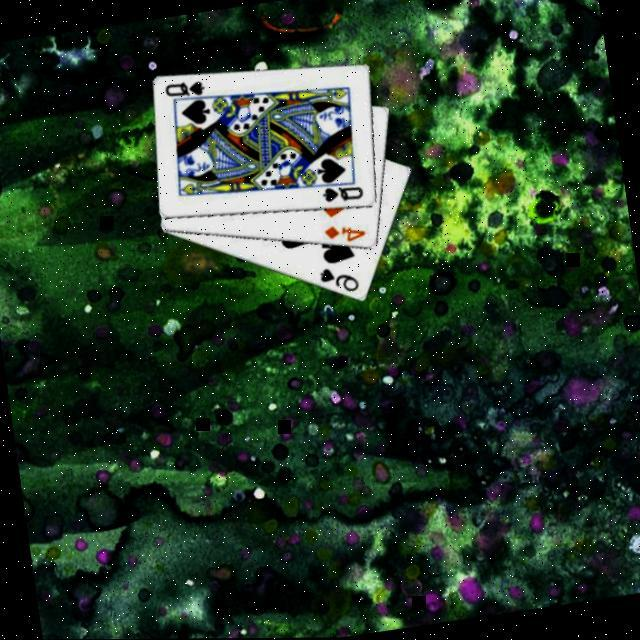4D: (322, 221, 371, 250)
9S: (317, 264, 364, 302)
QS: (320, 183, 368, 210), (163, 78, 209, 105)
